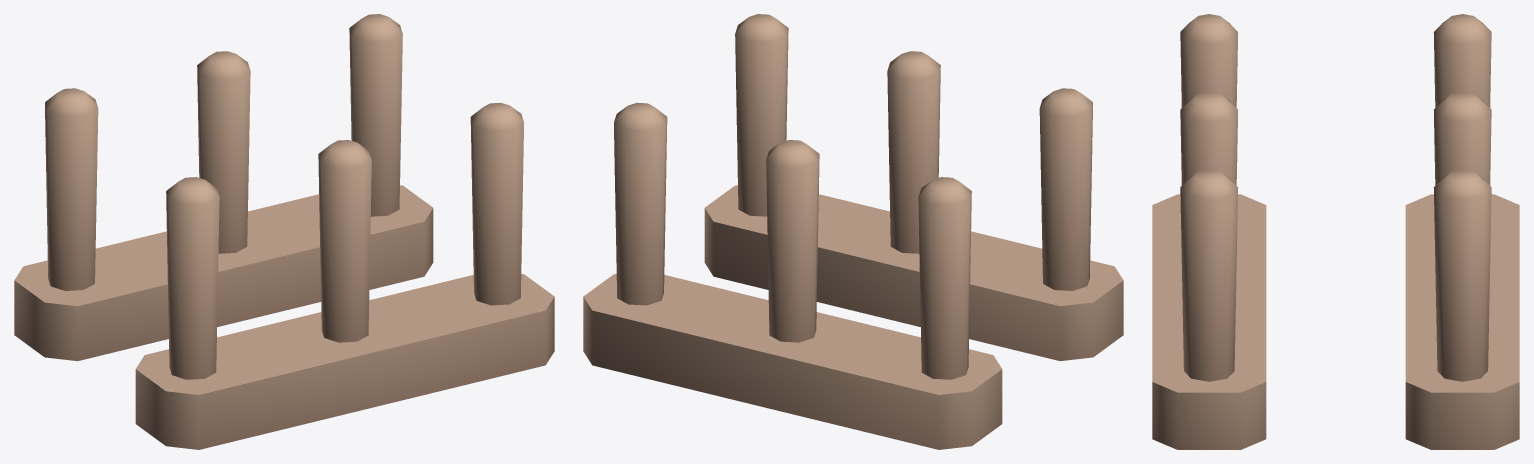
The model's file is dish-rack-empty.glb.
3 views of the same model, side by side, from view 1: azimuth 30°, elevation 25°; view 2: azimuth 150°, elevation 25°; view 3: azimuth 270°, elevation 25° (orthographic). The views are drawn at different scales.
Visible parts, largest first — view 1: dish-rack-empty; view 2: dish-rack-empty; view 3: dish-rack-empty.
Part boxes in pixels (box(x1,y1,x2,y2)): dish-rack-empty: box(14, 14, 554, 449); dish-rack-empty: box(583, 14, 1123, 449); dish-rack-empty: box(1152, 14, 1519, 449).
Size of the model in its own units: 0.37 by 0.22 by 0.29.
